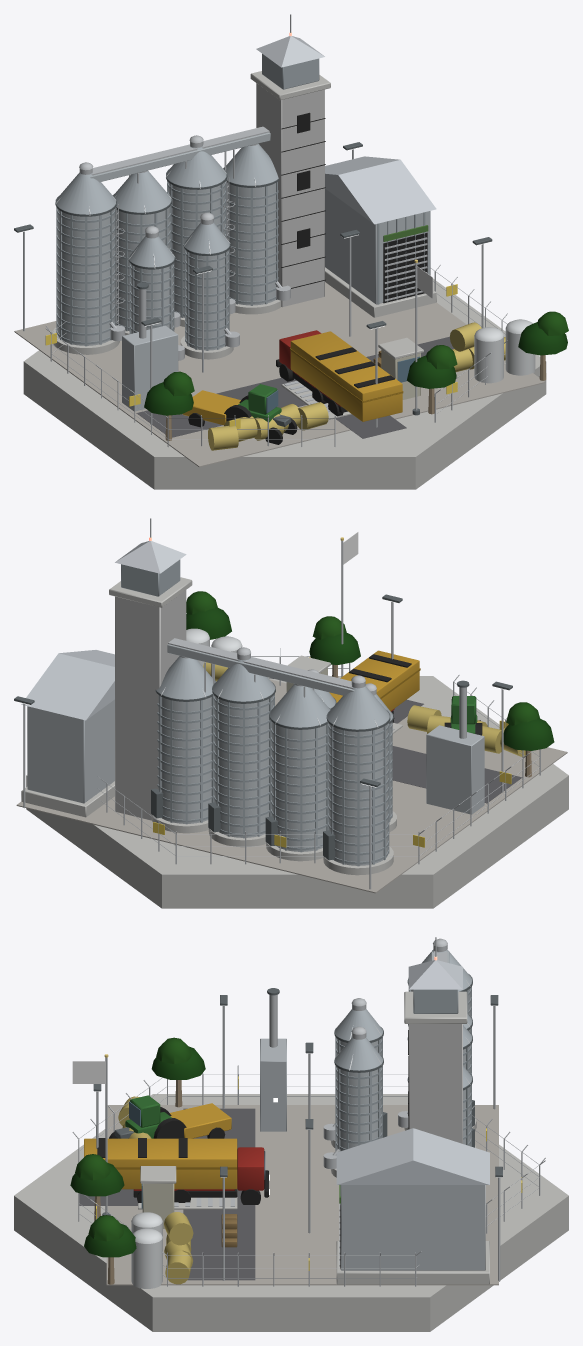
File: foodDepot.glb
3 renders of one model, top to bottom at view 1: azimuth 30°, elevation 25°; view 2: azimuth 150°, elevation 25°; view 3: azimuth 270°, elevation 25°, orthographic. The views are drawn at different scales.
Visible parts, largest first — view 1: cladding, wall_concrete, gravel, paint, metal, dark, leaf, asphalt, steel_dark, hazard, wood; view 2: cladding, wall_concrete, gravel, metal, paint, leaf, steel_dark, asphalt, dark, hazard; view 3: wall_concrete, cladding, gravel, paint, metal, asphalt, leaf, dark, steel_dark, wood, banner.
Part boxes in pixels (left/top/right/bottom): cladding: left=55, top=36, right=436, bottom=411; wall_concrete: left=23, top=71, right=546, bottom=489; gravel: left=14, top=282, right=545, bottom=467; paint: left=183, top=225, right=535, bottom=450; metal: left=23, top=14, right=507, bottom=446; dark: left=188, top=112, right=427, bottom=444; leaf: left=144, top=311, right=568, bottom=415; asphalt: left=136, top=336, right=454, bottom=438; steel_dark: left=14, top=142, right=492, bottom=426; hazard: left=45, top=284, right=457, bottom=429; wood: left=165, top=351, right=546, bottom=440; cladding: left=21, top=541, right=484, bottom=866; wall_concrete: left=21, top=577, right=568, bottom=908; gravel: left=16, top=679, right=567, bottom=893; metal: left=23, top=518, right=540, bottom=889; paint: left=186, top=628, right=525, bottom=756; leaf: left=186, top=591, right=554, bottom=750; steel_dark: left=14, top=594, right=512, bottom=860; asphalt: left=392, top=699, right=522, bottom=803; dark: left=186, top=617, right=482, bottom=735; hazard: left=153, top=657, right=511, bottom=847; wall_concrete: left=14, top=991, right=568, bottom=1331; cladding: left=142, top=949, right=489, bottom=1270; gravel: left=106, top=1105, right=498, bottom=1285; paint: left=84, top=1095, right=340, bottom=1288; metal: left=72, top=937, right=545, bottom=1286; asphalt: left=79, top=1108, right=255, bottom=1280; leaf: left=70, top=1037, right=205, bottom=1257; dark: left=97, top=1030, right=408, bottom=1269; steel_dark: left=93, top=974, right=502, bottom=1215; wood: left=94, top=1080, right=237, bottom=1284; banner: left=72, top=1061, right=105, bottom=1083.
Size of the model in its own units: 21.3 by 16.2 by 24.6.
